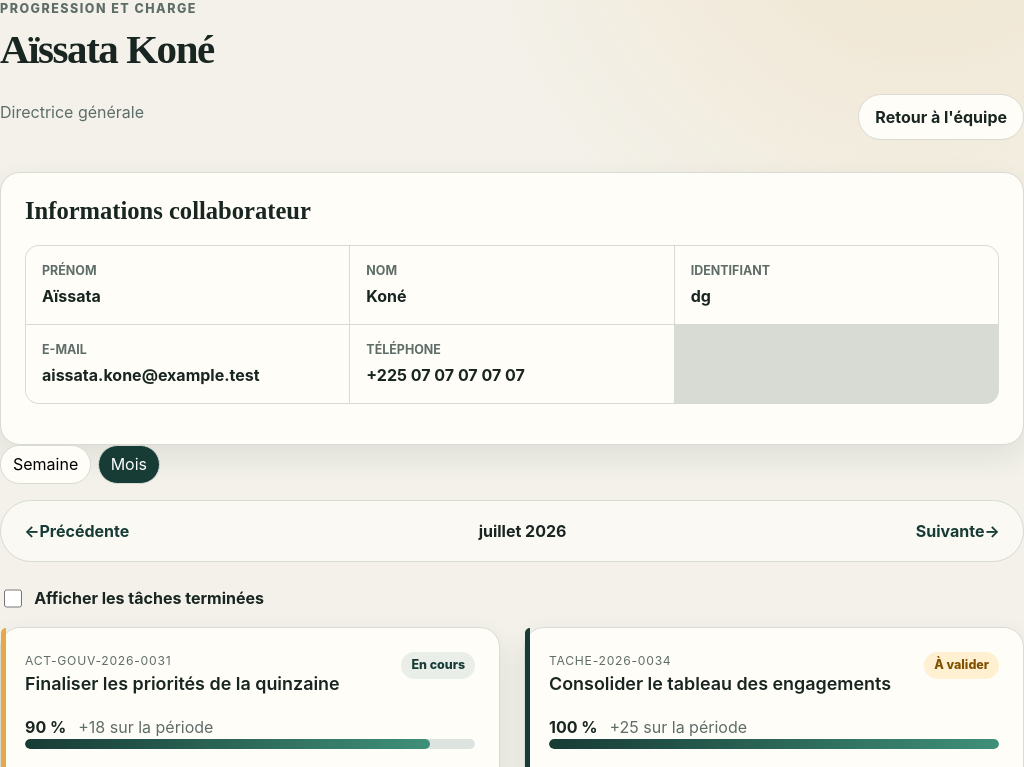
Test: masque par défaut les tâches terminées du collaborateur
The width and height of the screenshot is (1024, 767).
Expected: the text "Mission collaborateur terminée" is not shown
Click the checkbox labelled "Afficher les tâches terminées": [13, 598] box [4, 589, 22, 608]
(page scrolled)
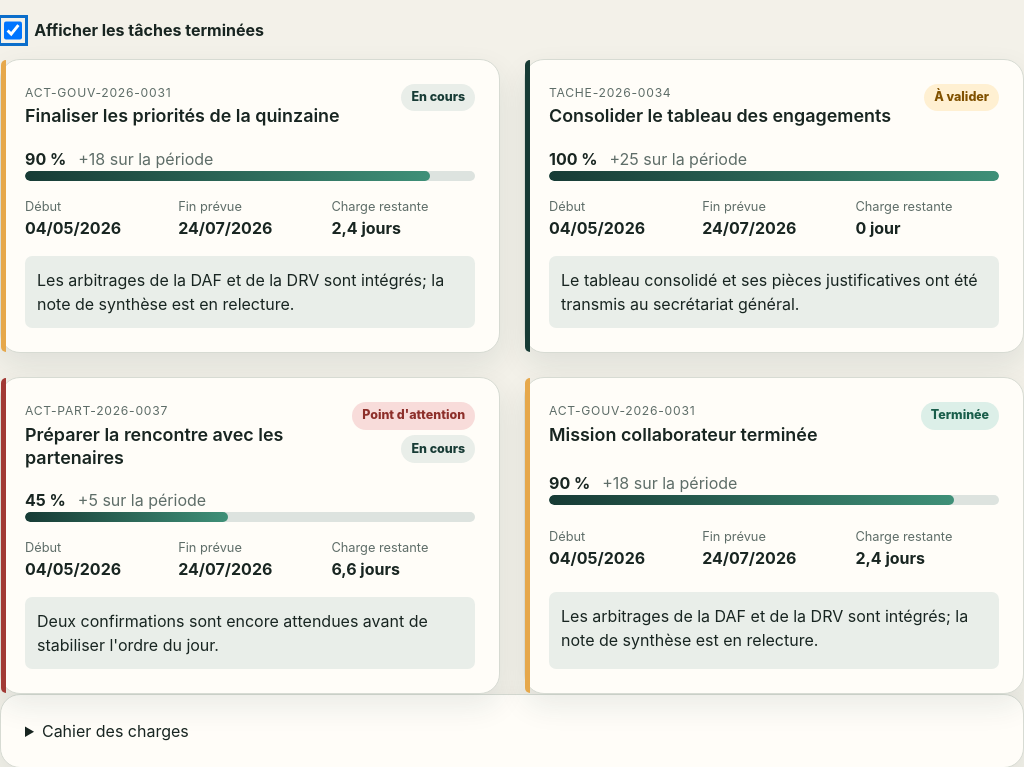
Expected: the link "Mission collaborateur terminée" is shown, [549, 424, 818, 444]
